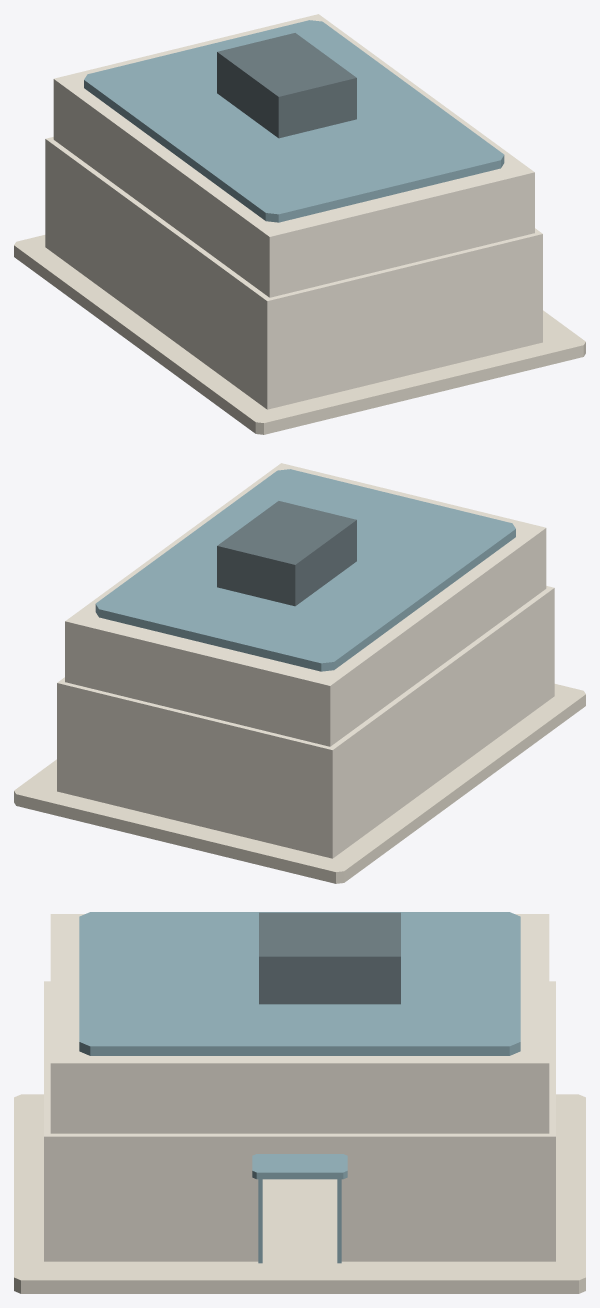
The model's file is Habitat_7p2m_v4_ShadowProxy.glb.
The picture shows the model from 3 angles, top to bottom: view 1: azimuth 30°, elevation 25°; view 2: azimuth 150°, elevation 25°; view 3: azimuth 270°, elevation 25°; orthographic projection. The views are drawn at different scales.
Visible parts, largest first — view 1: Habitat_7p2m_v4_ShadowProxy / Structure, Habitat_7p2m_v4_ShadowProxy / Roof, Habitat_7p2m_v4_ShadowProxy / Foundation; view 2: Habitat_7p2m_v4_ShadowProxy / Structure, Habitat_7p2m_v4_ShadowProxy / Roof, Habitat_7p2m_v4_ShadowProxy / Foundation; view 3: Habitat_7p2m_v4_ShadowProxy / Structure, Habitat_7p2m_v4_ShadowProxy / Roof, Habitat_7p2m_v4_ShadowProxy / Foundation, Habitat_7p2m_v4_ShadowProxy / Entrance modules.
Part boxes in pixels (x1,y1,x2,y2): Habitat_7p2m_v4_ShadowProxy / Structure: [45, 14, 542, 409]; Habitat_7p2m_v4_ShadowProxy / Roof: [84, 20, 504, 222]; Habitat_7p2m_v4_ShadowProxy / Foundation: [14, 235, 585, 434]; Habitat_7p2m_v4_ShadowProxy / Structure: [57, 463, 554, 858]; Habitat_7p2m_v4_ShadowProxy / Roof: [95, 469, 515, 671]; Habitat_7p2m_v4_ShadowProxy / Foundation: [14, 684, 585, 883]; Habitat_7p2m_v4_ShadowProxy / Structure: [44, 914, 555, 1261]; Habitat_7p2m_v4_ShadowProxy / Roof: [79, 912, 520, 1055]; Habitat_7p2m_v4_ShadowProxy / Foundation: [14, 1094, 585, 1293]; Habitat_7p2m_v4_ShadowProxy / Entrance modules: [252, 1154, 347, 1285].
Bounding box in the file's own units: 10 × 6.68 × 13.
